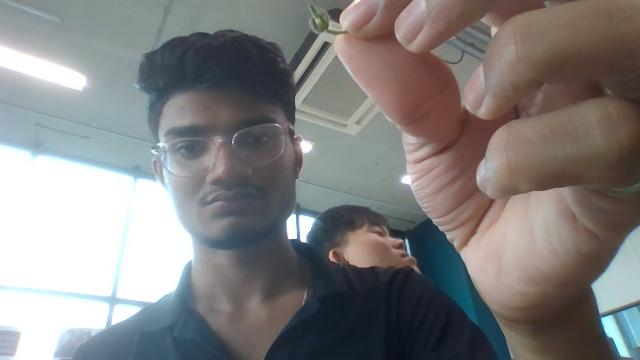Fruit Bud: (308, 3, 329, 33)
